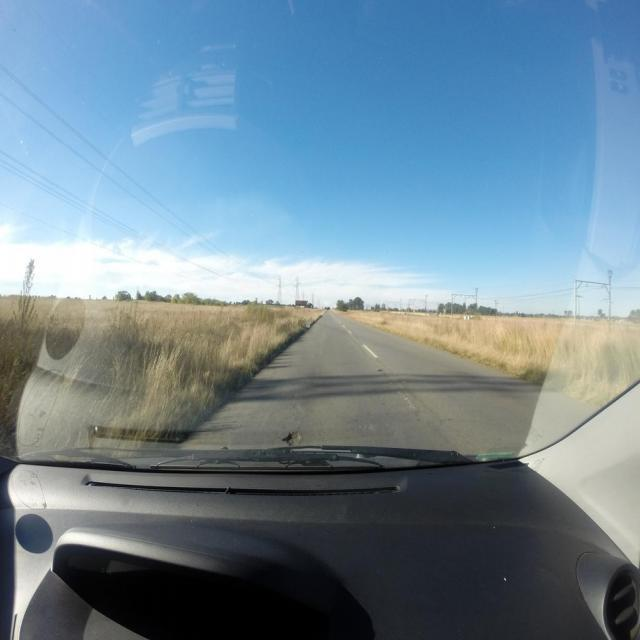Buraco: (280, 429, 303, 446)
